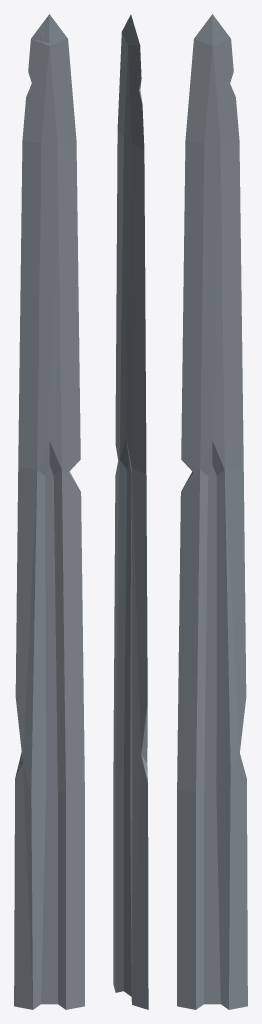
File: kingdom_SM_Wep_Mod_Sword_Blade_04.gltf
The picture shows the model from 3 angles, left to right: view 1: azimuth 90°, elevation 25°; view 2: azimuth 210°, elevation 25°; view 3: azimuth 270°, elevation 25°; orthographic projection.
Visible parts, largest first — view 1: SM_Wep_Mod_Sword_Blade_04; view 2: SM_Wep_Mod_Sword_Blade_04; view 3: SM_Wep_Mod_Sword_Blade_04.
Boxes of the visible parts, x1,y1,x2,y2 form: SM_Wep_Mod_Sword_Blade_04: (14, 14, 84, 1009); SM_Wep_Mod_Sword_Blade_04: (113, 14, 148, 1009); SM_Wep_Mod_Sword_Blade_04: (177, 14, 247, 1009).
Size of the model in its own units: 0.0188 by 1.21 by 0.0785.
1 material, 1 textured.
